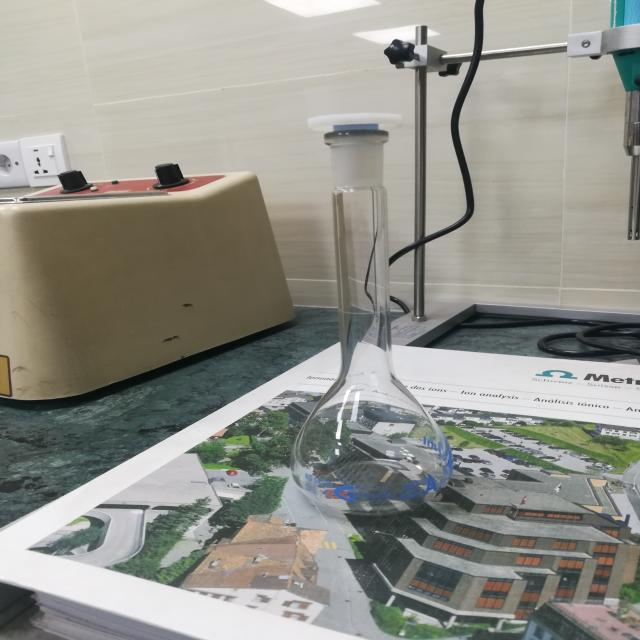Volumetric_Flask: (237, 79, 507, 541)
